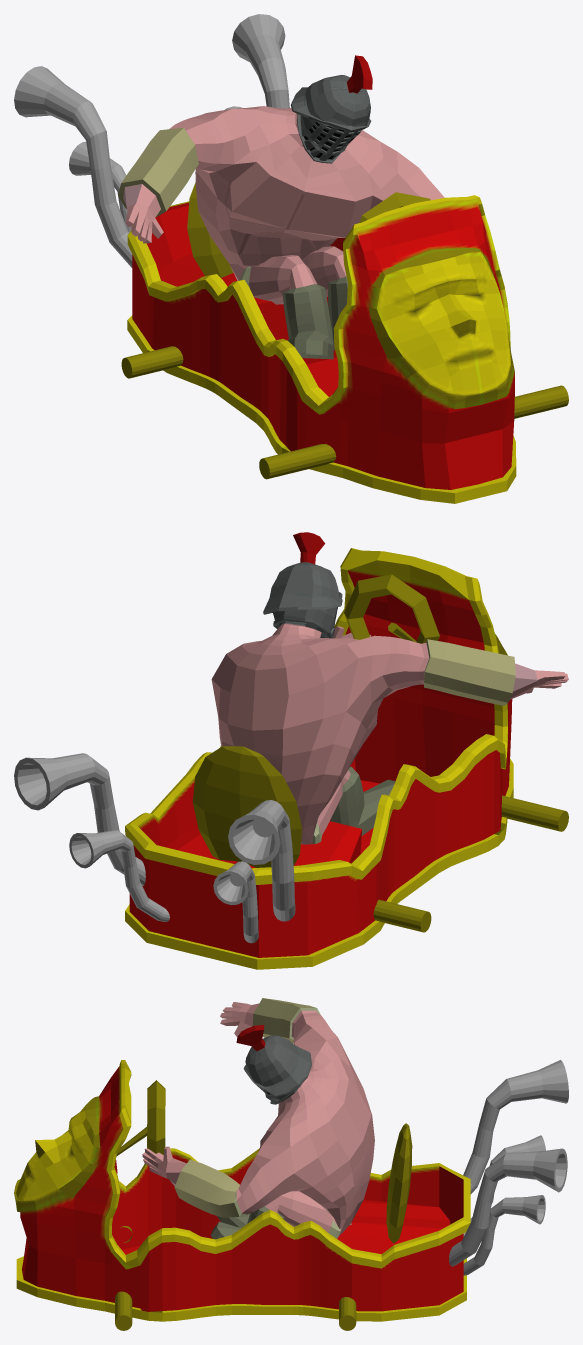
Rendered from gladiVacile_000571.obj.
3 views of the same model, one above another, from view 1: azimuth 30°, elevation 25°; view 2: azimuth 150°, elevation 25°; view 3: azimuth 270°, elevation 25° (orthographic). The views are drawn at different scales.
Visible parts, largest first — view 1: GladiChasis_GladiChasisH, Gadiador_Gladiador_H.001, GladiTubos_GladiTubosH, GladiVolante_GladiVolanteH; view 2: GladiChasis_GladiChasisH, Gadiador_Gladiador_H.001, GladiTubos_GladiTubosH, GladiVolante_GladiVolanteH; view 3: GladiChasis_GladiChasisH, Gadiador_Gladiador_H.001, GladiTubos_GladiTubosH, GladiVolante_GladiVolanteH.
Part boxes in pixels (x1=…): GladiChasis_GladiChasisH: x1=127, y1=195, x2=516, y2=503; Gadiador_Gladiador_H.001: x1=118, y1=55, x2=444, y2=359; GladiTubos_GladiTubosH: x1=14, y1=14, x2=289, y2=267; GladiVolante_GladiVolanteH: x1=121, y1=182, x2=568, y2=479; GladiChasis_GladiChasisH: x1=125, y1=548, x2=513, y2=969; Gadiador_Gladiador_H.001: x1=211, y1=532, x2=568, y2=844; GladiTubos_GladiTubosH: x1=14, y1=753, x2=295, y2=943; GladiVolante_GladiVolanteH: x1=192, y1=574, x2=568, y2=932; GladiChasis_GladiChasisH: x1=14, y1=1060, x2=470, y2=1321; Gadiador_Gladiador_H.001: x1=142, y1=998, x2=374, y2=1239; GladiTubos_GladiTubosH: x1=449, y1=1060, x2=568, y2=1275; GladiVolante_GladiVolanteH: x1=115, y1=1080, x2=412, y2=1330.
Size of the model in its own units: 6.74 by 5.66 by 10.78.
